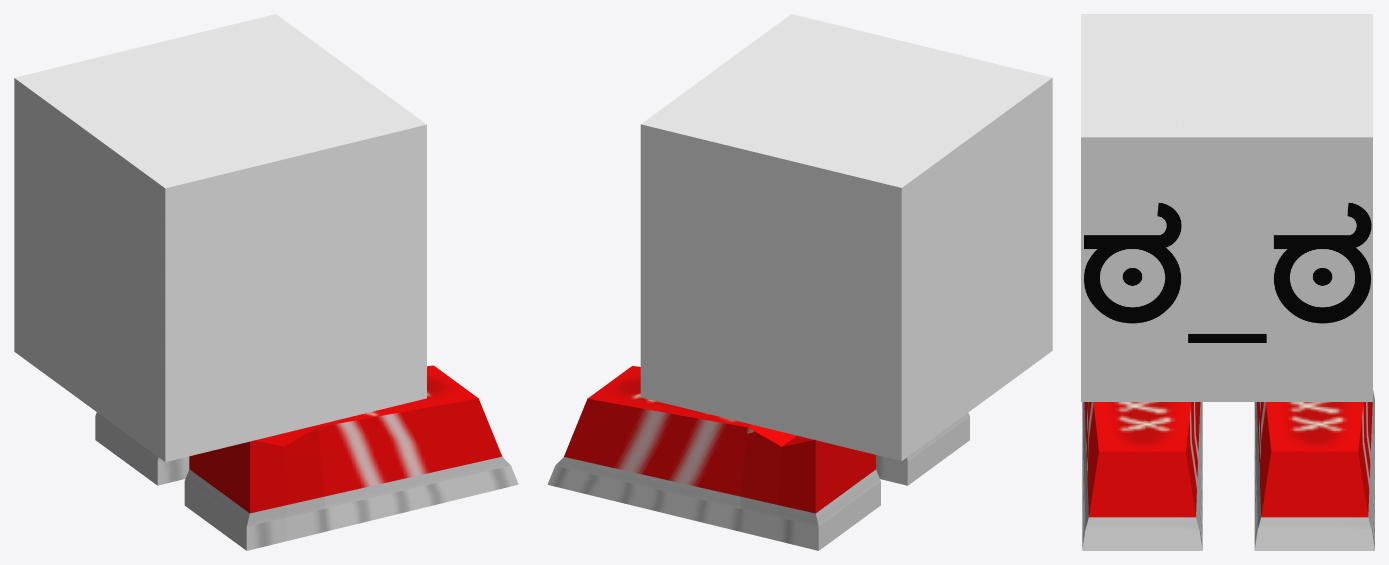
Rendered from cubeThing.obj.
The picture shows the model from 3 angles, left to right: view 1: azimuth 30°, elevation 25°; view 2: azimuth 150°, elevation 25°; view 3: azimuth 270°, elevation 25°; orthographic projection. The views are drawn at different scales.
Parts seen in each view (by area): view 1: Cube, Cube.001, Cube.002; view 2: Cube, Cube.002, Cube.001; view 3: Cube, Cube.002, Cube.001.
Part boxes in pixels (box(x1,y1,x2,y2)): Cube: box(14, 14, 426, 461); Cube.001: box(184, 365, 518, 550); Cube.002: box(95, 412, 189, 485); Cube: box(640, 14, 1052, 460); Cube.002: box(547, 366, 880, 550); Cube.001: box(876, 412, 969, 485); Cube: box(1081, 14, 1372, 401); Cube.002: box(1254, 390, 1374, 550); Cube.001: box(1082, 402, 1202, 550).
Bounding box in the file's own units: 2.71 × 2.8 × 2.01.
